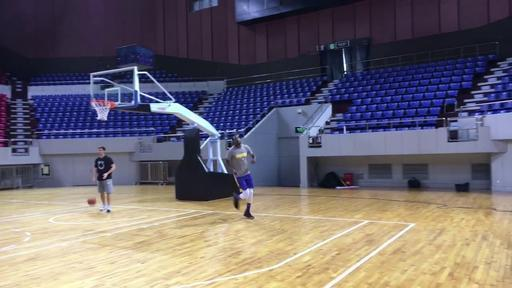ball: (88, 196, 96, 206)
human: (226, 135, 256, 220), (93, 146, 116, 212)
rim: (92, 100, 112, 119)
